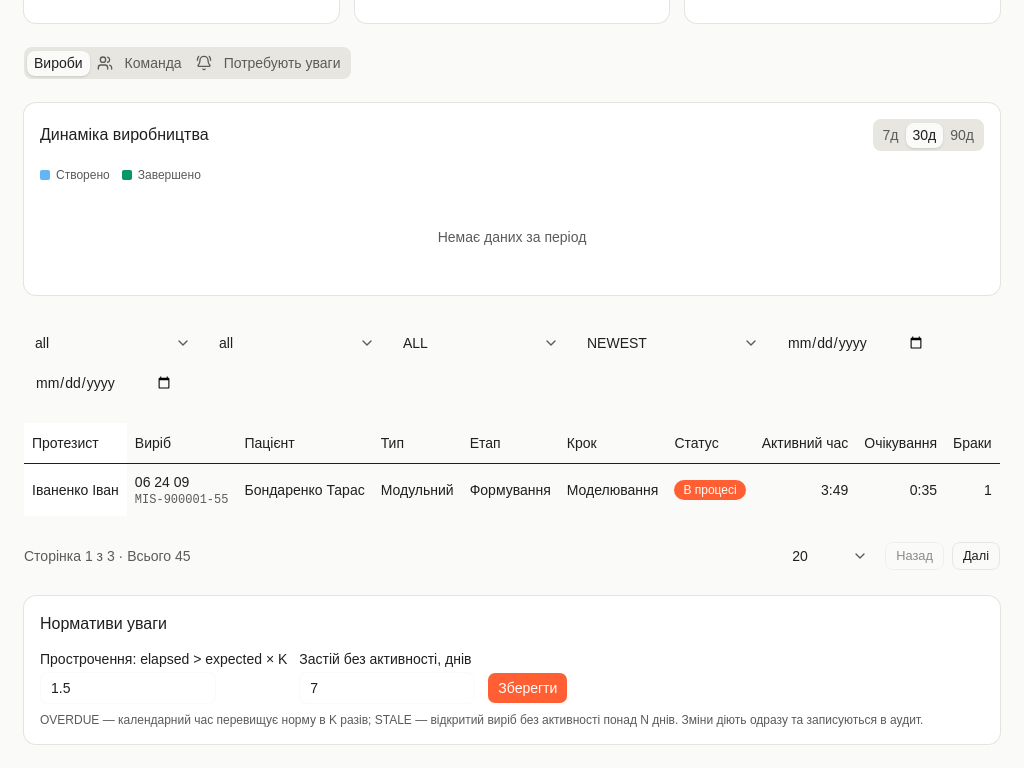
Test case: ProductionPage › paginates forward
(page scrolled)
expect the text "Сторінка 1 з 3 · Всього 45" is shown: met, box [24,546,191,566]
Click the button "Далі": {"x": 976, "y": 556} [952,542,1000,570]
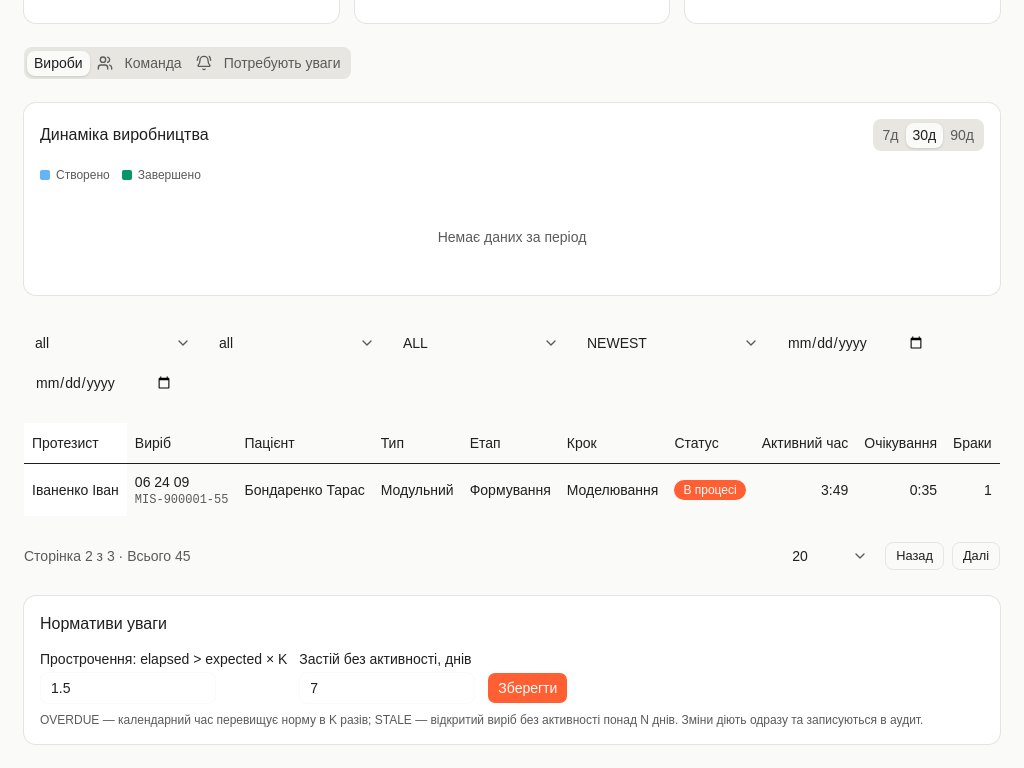
expect the text "Сторінка 2 з 3 · Всього 45" is shown: met, box [24,546,191,566]
